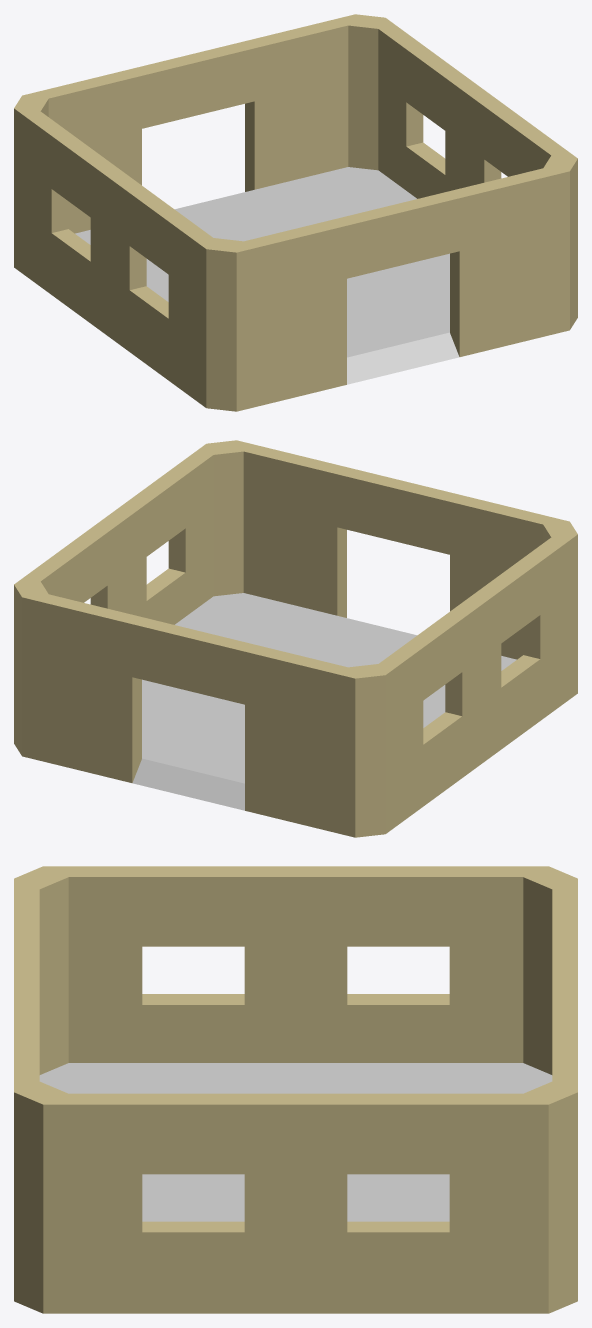
File: 10x10house.fbx
3 renders of one model, top to bottom at view 1: azimuth 30°, elevation 25°; view 2: azimuth 150°, elevation 25°; view 3: azimuth 270°, elevation 25°, orthographic. The views are drawn at different scales.
Parts seen in each view (by area): view 1: Plane.044; view 2: Plane.044; view 3: Plane.044.
Boxes of the visible parts, x1=… form: Plane.044: x1=14, y1=14, x2=577, y2=411; Plane.044: x1=14, y1=440, x2=577, y2=837; Plane.044: x1=14, y1=866, x2=577, y2=1313.
Size of the model in its own units: 1100 by 450 by 1100.
